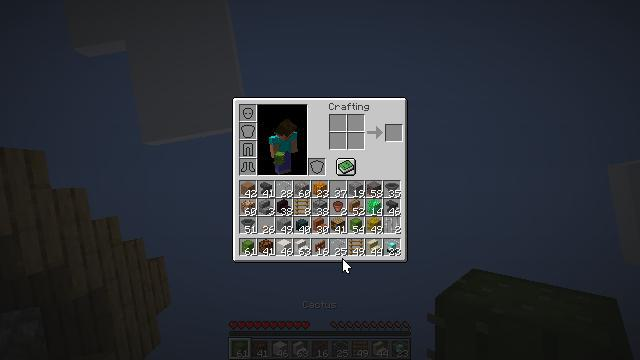cursor: (258, 342, 274, 352)
